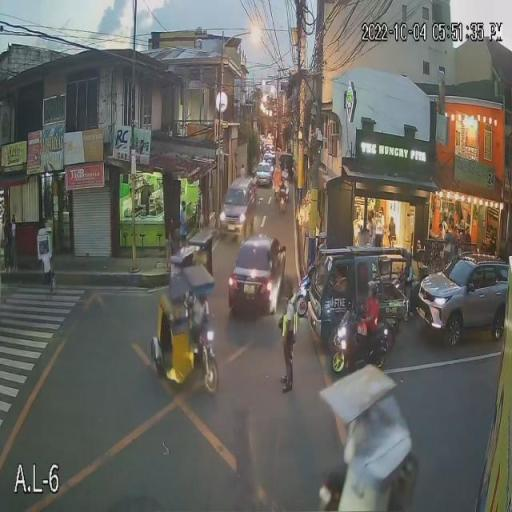helmet: (368, 282, 377, 299), (318, 244, 328, 251), (281, 180, 285, 185)
motorcycle: (332, 310, 396, 374), (295, 274, 310, 316), (277, 194, 289, 213)
rider: (361, 298, 378, 362), (279, 185, 287, 199)
